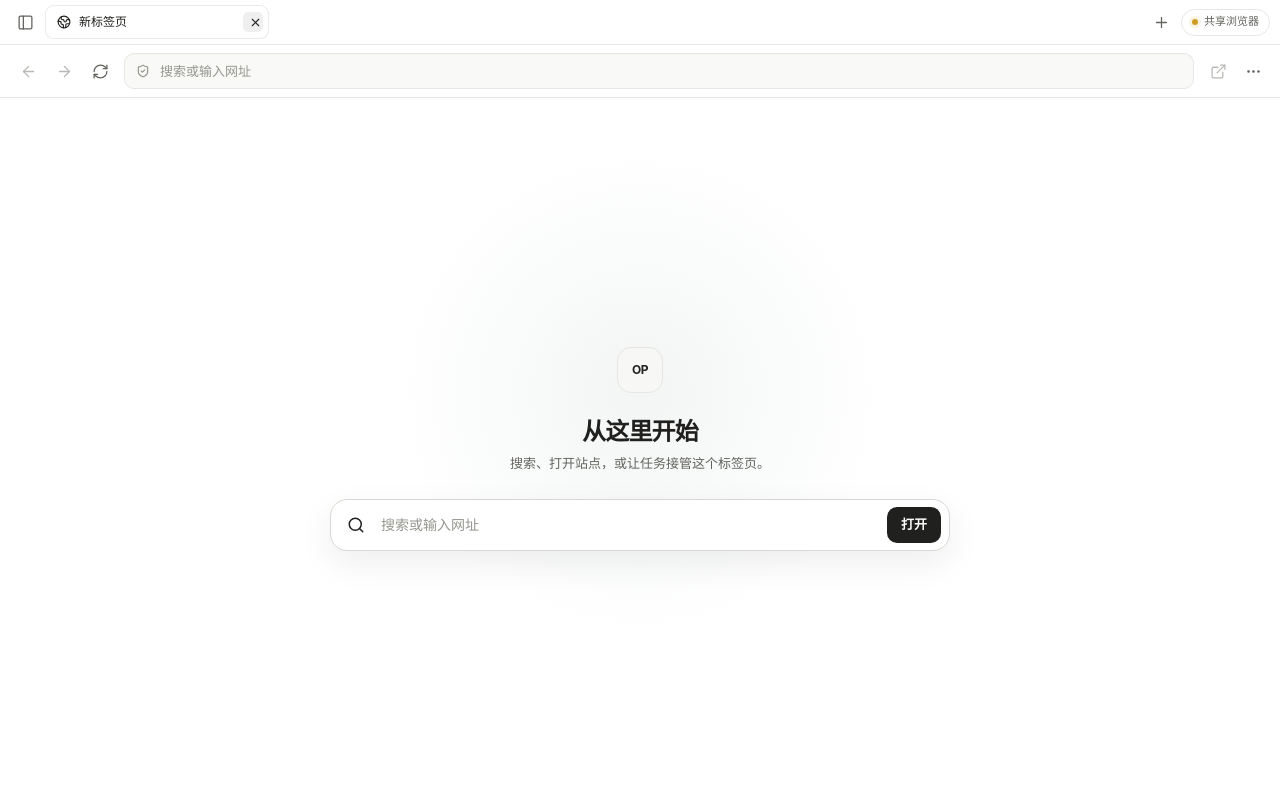
it: BrowserWorkspace › opens tools as a compact menu without a modal mask
This screenshot has width=1280, height=800.
Click the button named "浏览器工具" at (1253, 71), box [1238,56,1268,86]
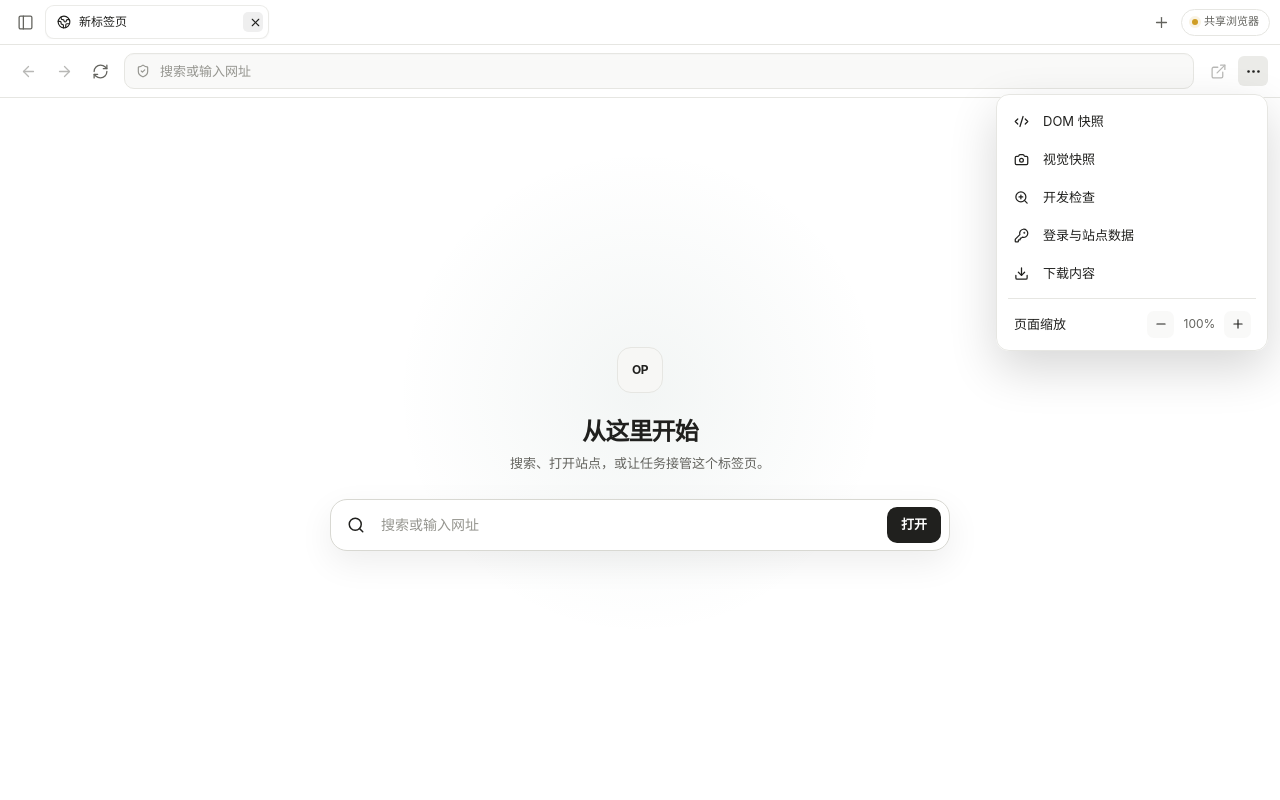
expect the menu is shown: met, box [996,94,1268,351]
expect the menu item "DOM 快照" is shown: met, box [1004,102,1260,140]
expect the menu item "视觉快照" is shown: met, box [1004,140,1260,178]
